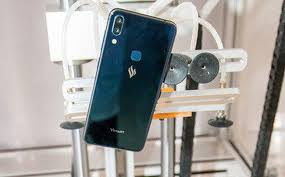vsmart: (81, 8, 177, 153)
